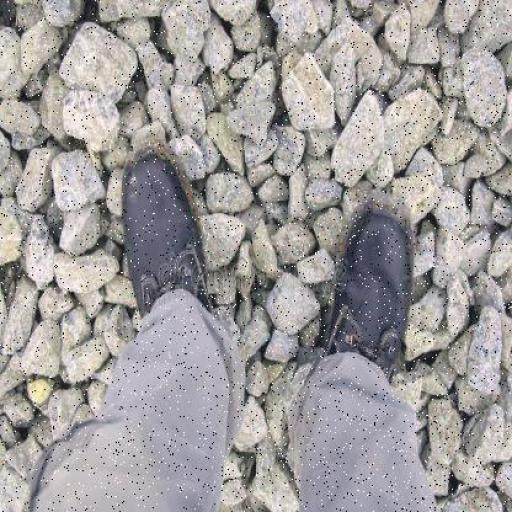safety_shoe: (113, 145, 225, 346), (327, 194, 413, 397)
